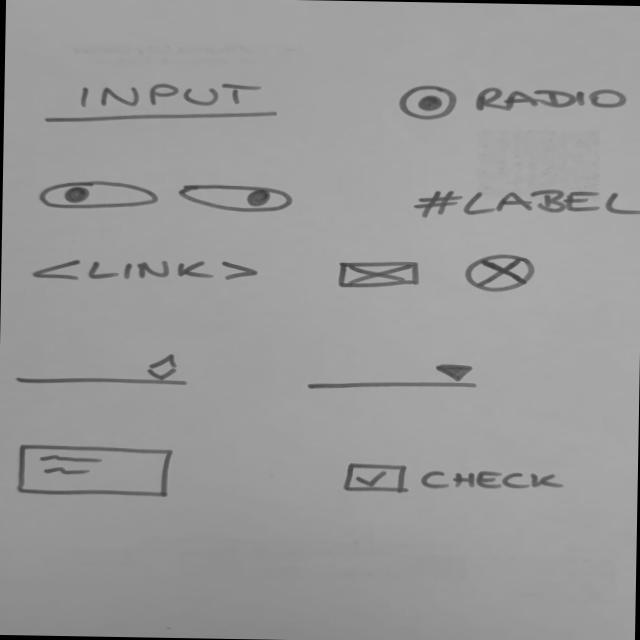checkbox: (334, 458, 572, 499)
image: (458, 250, 537, 294), (330, 258, 424, 290)
input: (39, 70, 281, 130)
label: (407, 183, 640, 224)
link: (27, 252, 266, 287)
number-input: (5, 348, 194, 388)
radio: (396, 80, 636, 128)
select: (299, 356, 482, 396)
textarea: (13, 439, 180, 502)
toggle: (172, 180, 298, 216), (37, 178, 162, 212)
